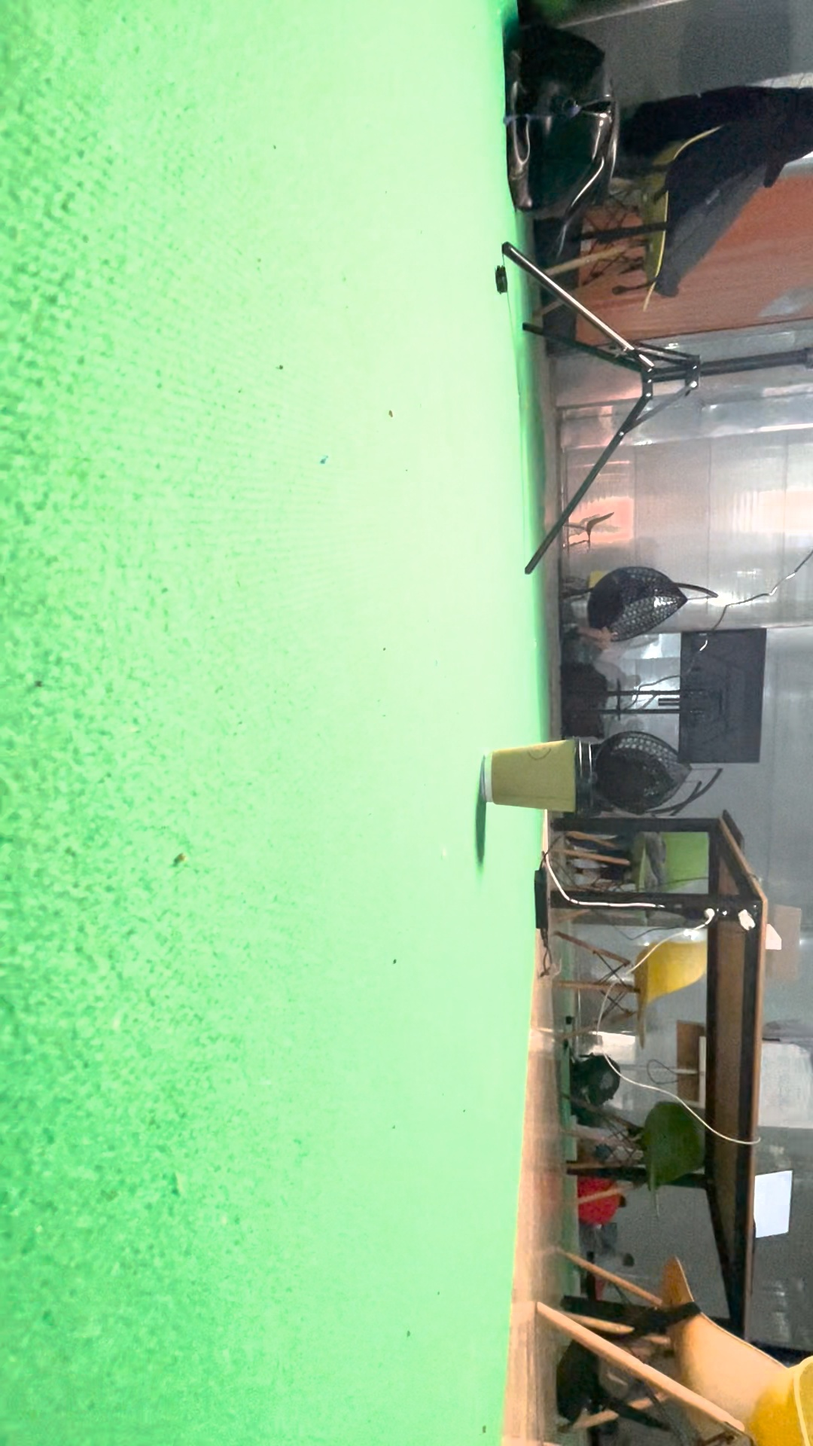cup: (443, 721, 523, 1120)
